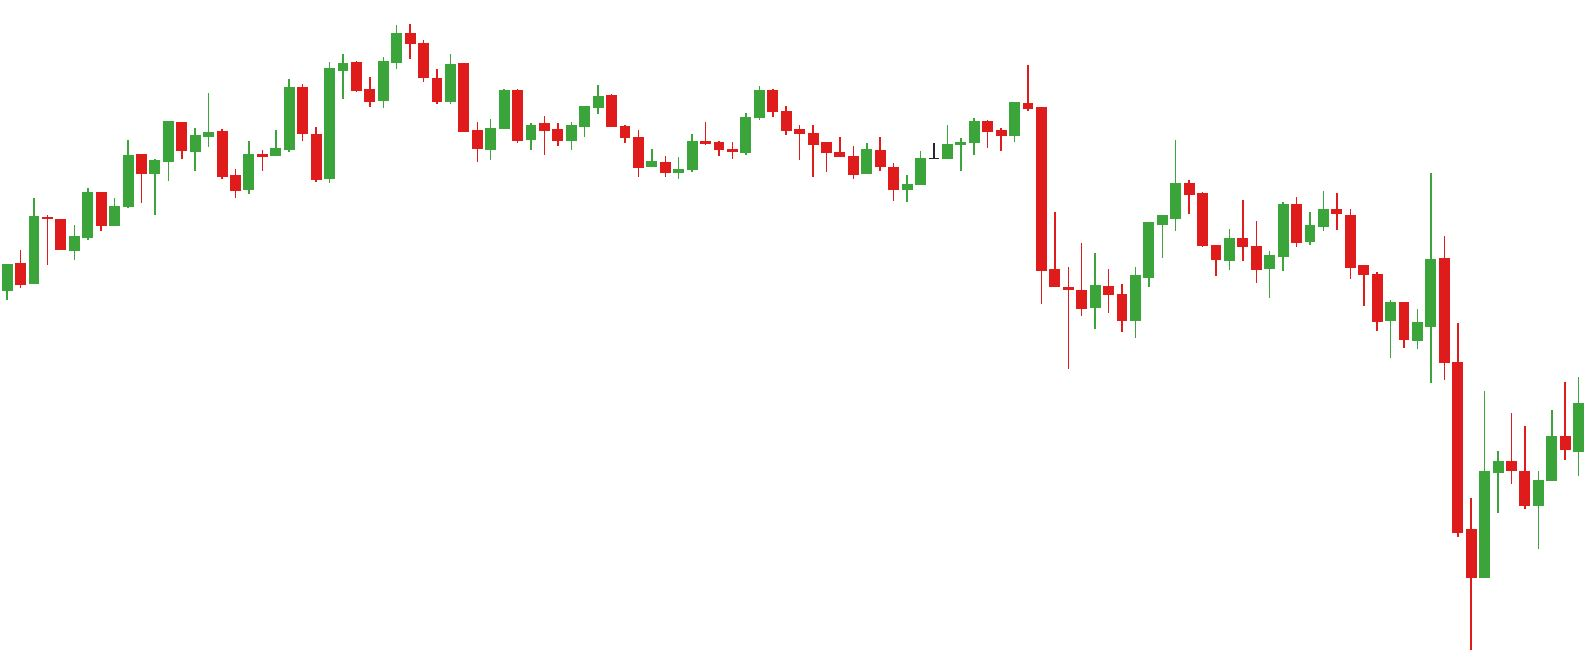buy: (160, 134, 256, 199)
sell: (1290, 174, 1437, 313)
